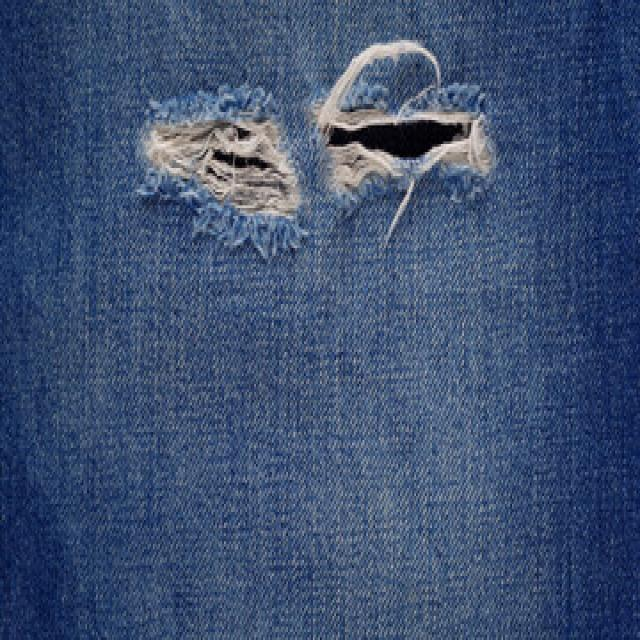Hole: (314, 40, 497, 207), (145, 120, 300, 216)
